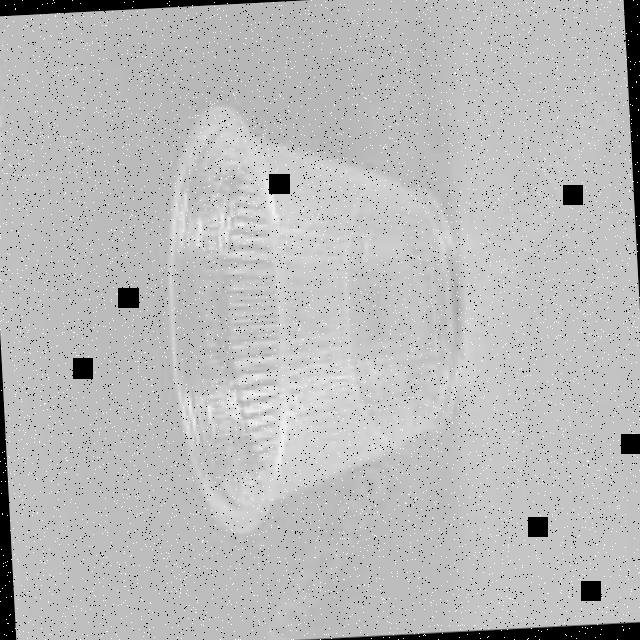plastic_box: (154, 96, 470, 538)
